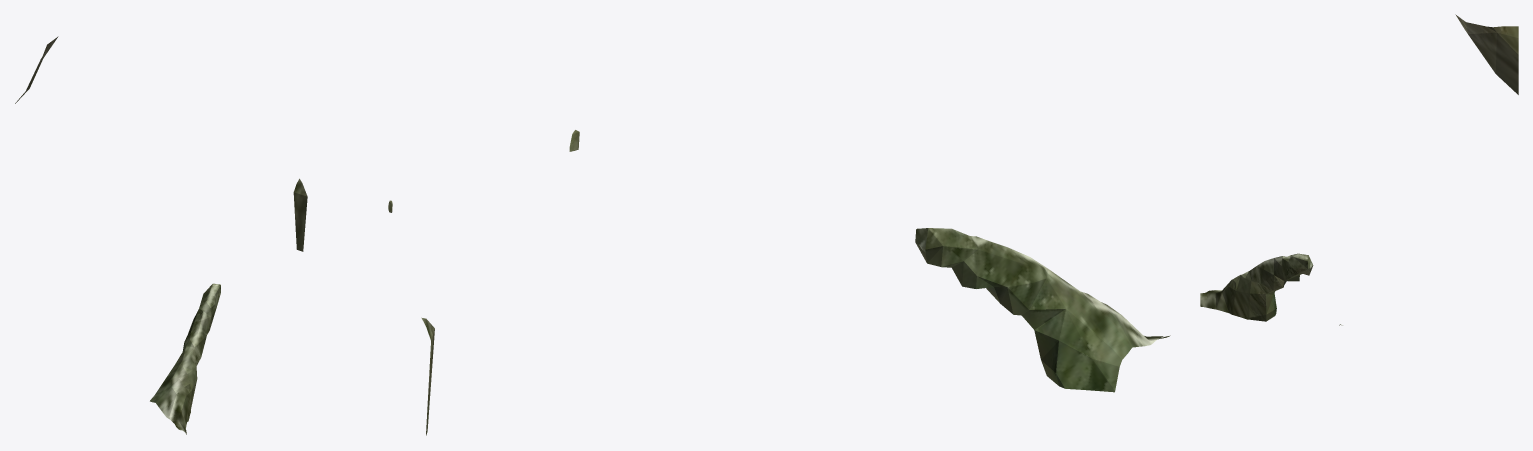
3 renders of one model, left to right at view 1: azimuth 30°, elevation 25°; view 2: azimuth 150°, elevation 25°; view 3: azimuth 270°, elevation 25°, orthographic. The views are drawn at different scales.
Size of the model in its own units: 2.95 by 2.95 by 2.95.
1 material, 1 textured.
